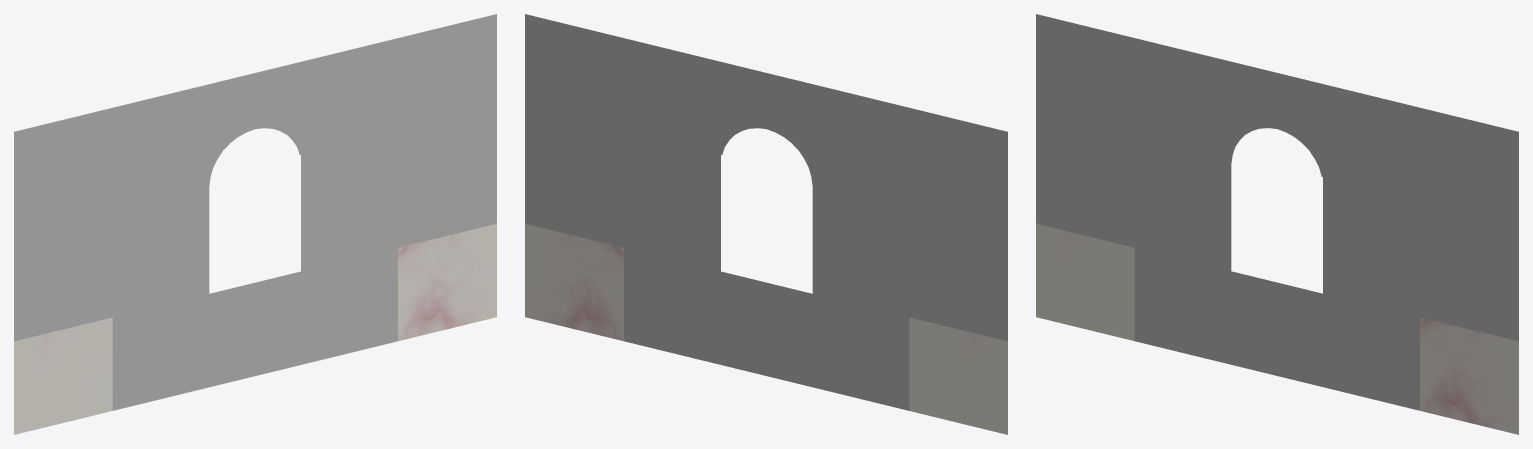
File: Wall_Window.fbx
3 renders of one model, left to right at view 1: azimuth 30°, elevation 25°; view 2: azimuth 150°, elevation 25°; view 3: azimuth 330°, elevation 25°, orthographic.
Visible parts, largest first — view 1: Wall.001; view 2: Wall.001; view 3: Wall.001.
Part boxes in pixels (left/top/right/bottom): Wall.001: left=14, top=14, right=496, bottom=434; Wall.001: left=525, top=14, right=1007, bottom=434; Wall.001: left=1036, top=14, right=1518, bottom=434.
Size of the model in its own units: 1199 by 719 by 0.000318.
